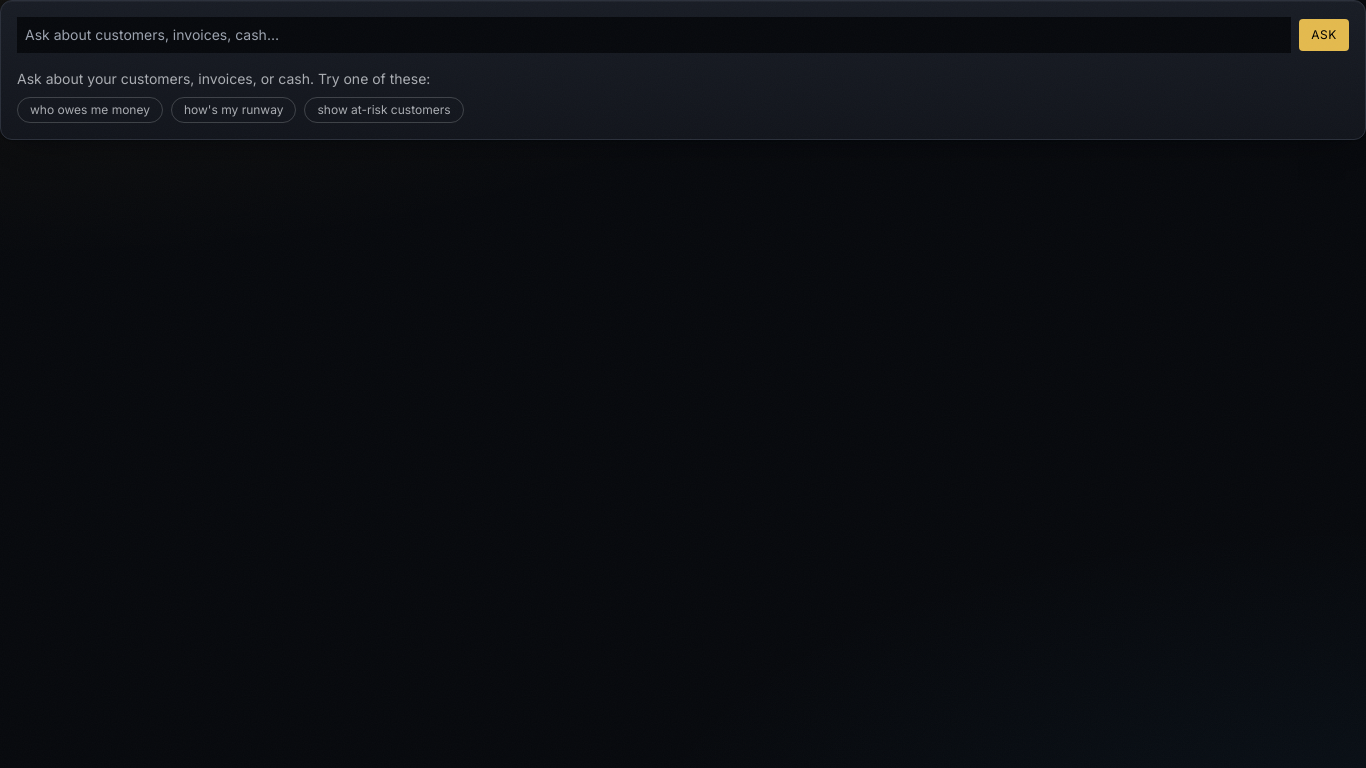
Test: CommandPalette — table result › renders a graceful message instead of a bare table when rows is empty
Step 1. Type "show at-risk customers" into the field named "ask a question" → coordinates (654, 35), box 17,17 -> 1291,53
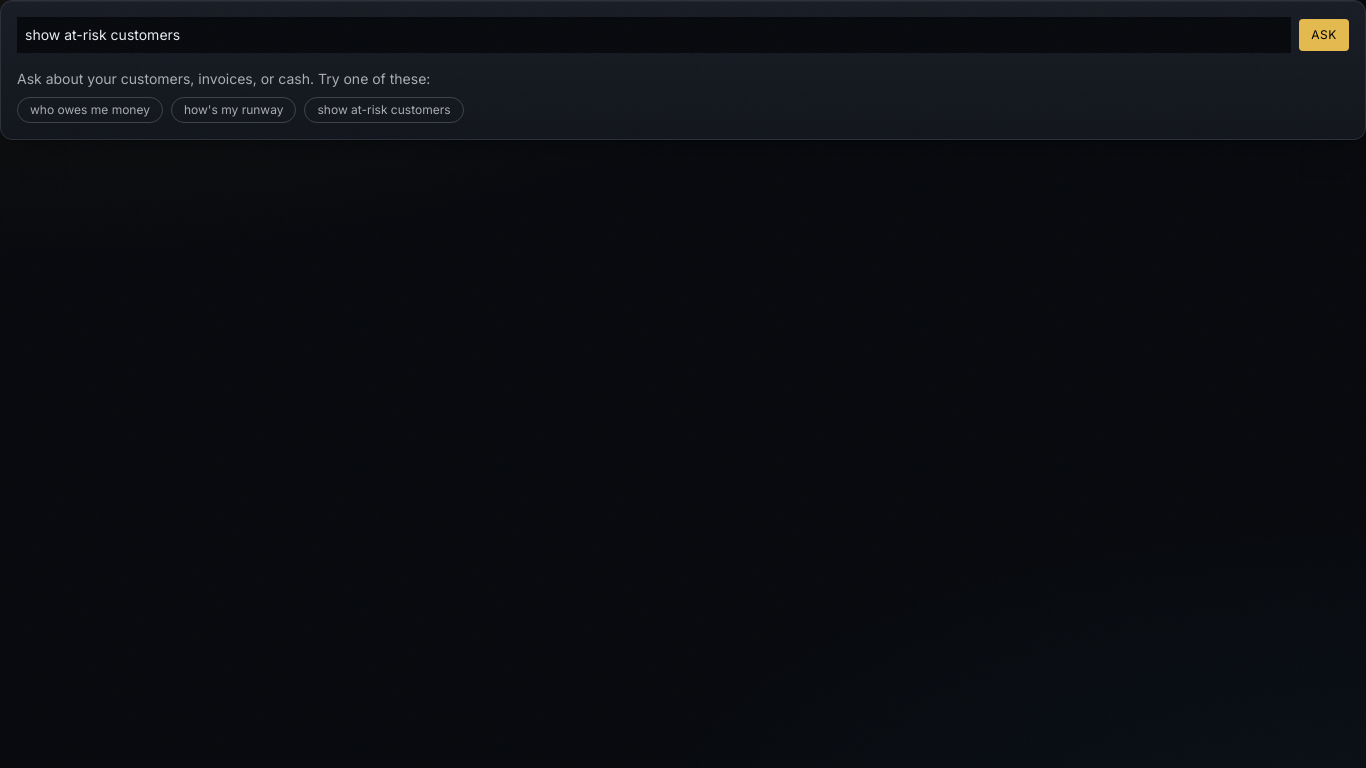
Step 2. Click the button "Ask" → coordinates (1324, 35), box 1299,19 -> 1349,51
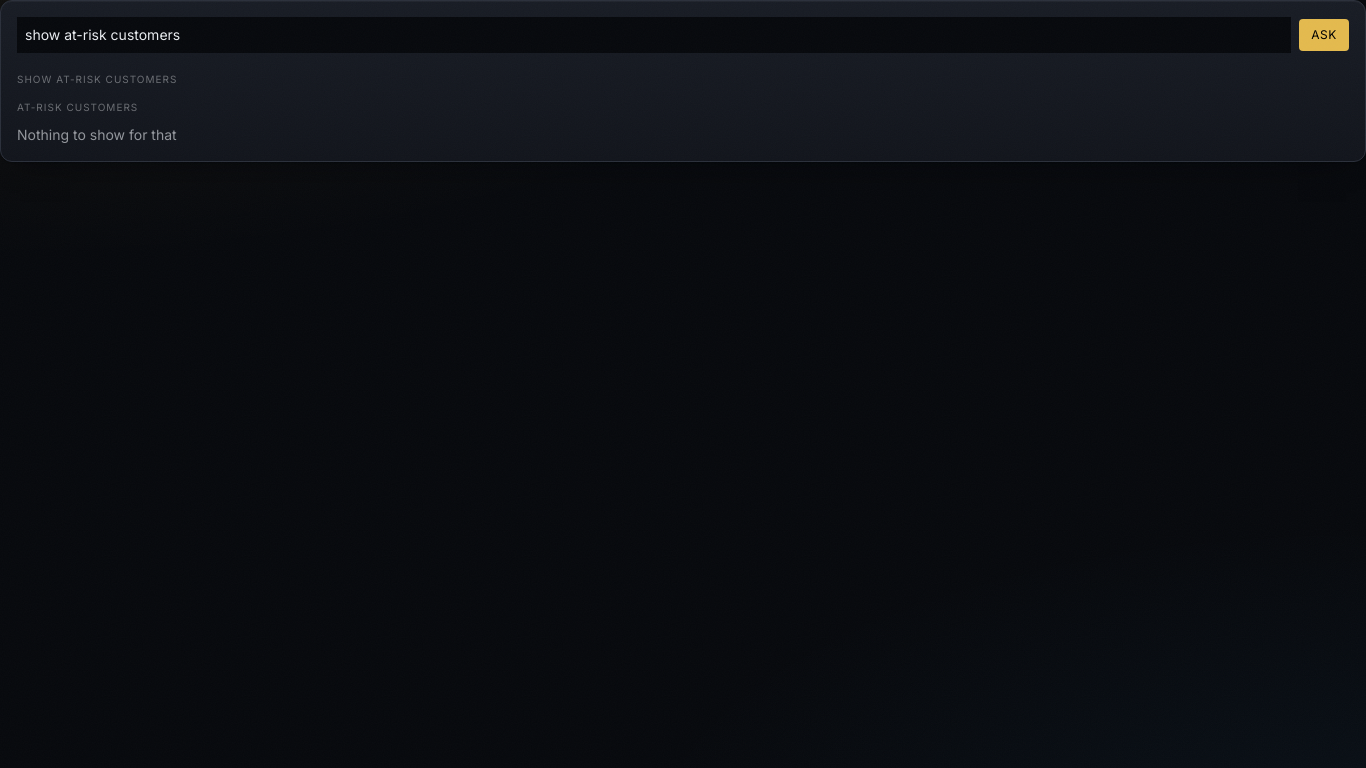
Check: the text "Nothing to show for that" is shown, box 17,126 -> 177,143
